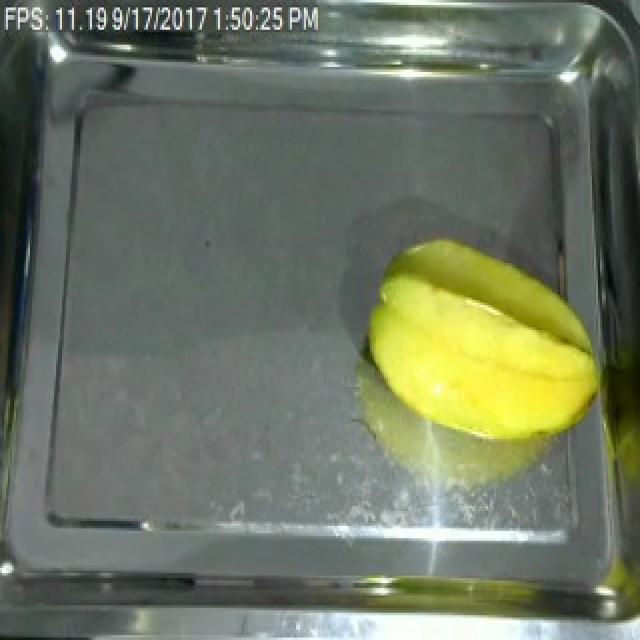fruit: (354, 223, 608, 449)
